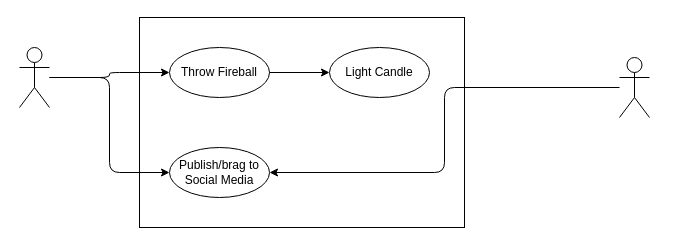
The diagram is 686 pixels wide and 245 high, and some of its shapes have lost their labels. The centre of each missing label's shape, as x and y in pixels:
"Player" belongs at point (34, 77).
"Social Media" belongs at point (634, 87).
